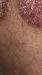plaque psoriasis: (2, 0, 42, 30), (0, 0, 12, 24)
